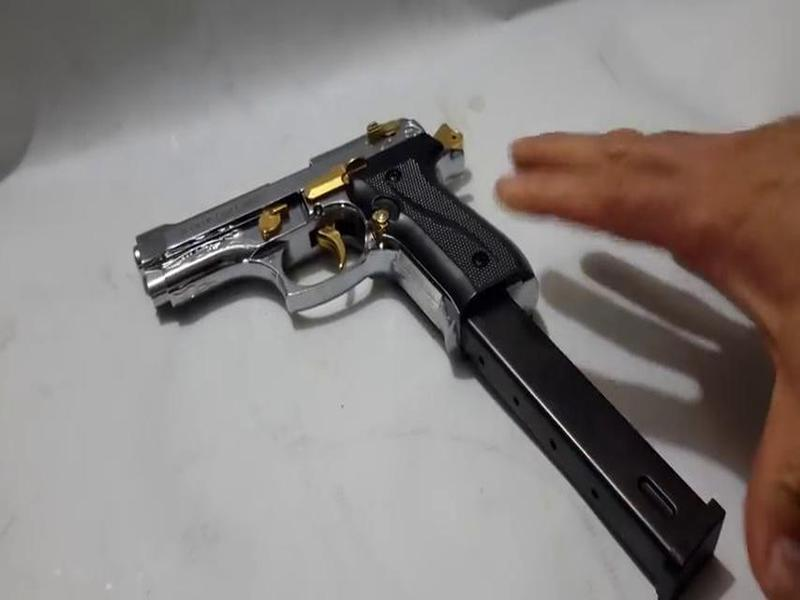Pistola: (127, 104, 557, 334)
